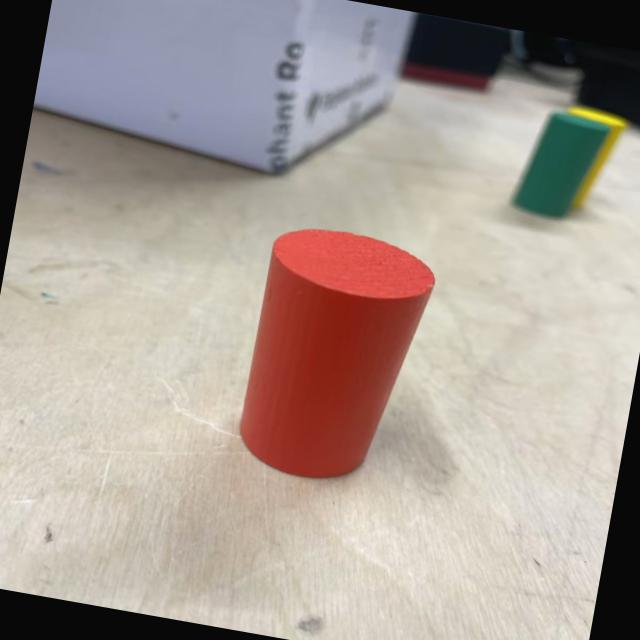red_cylinder: (232, 219, 440, 495)
